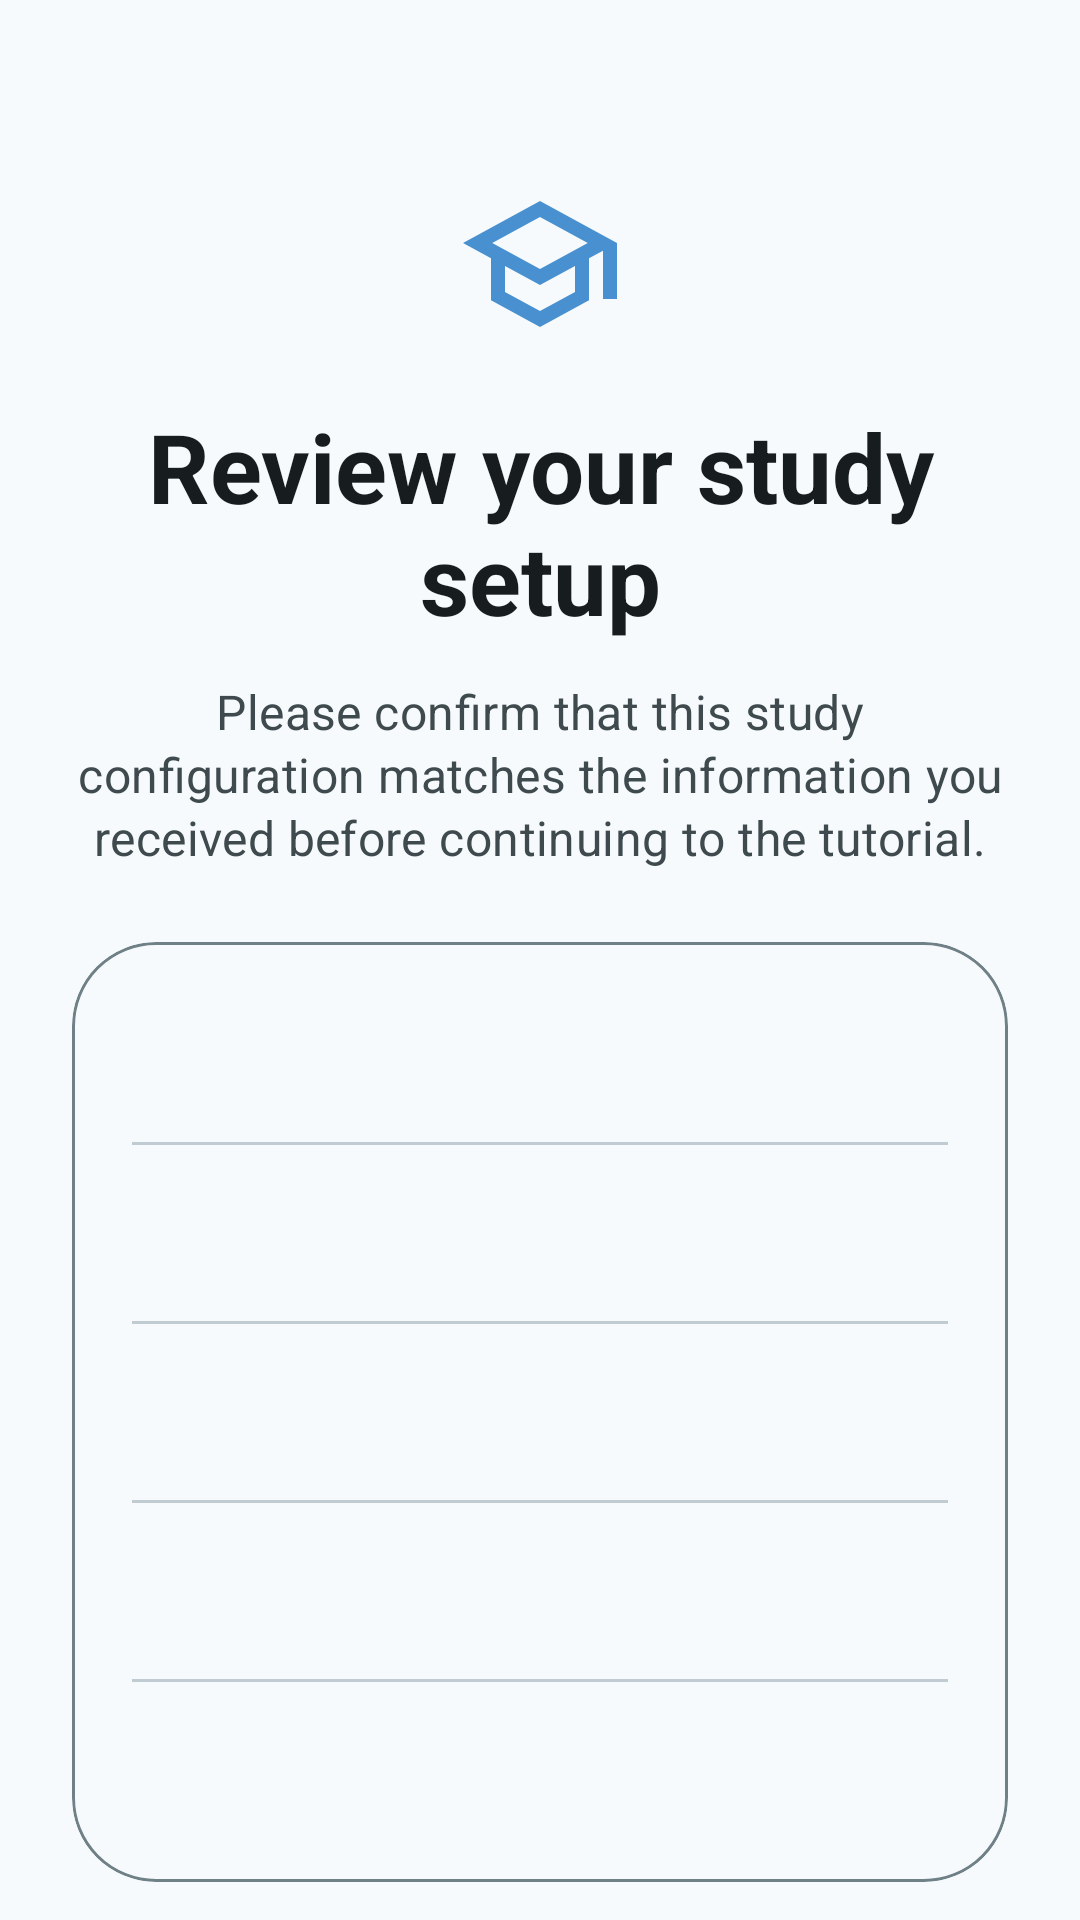

Screen size 1080px x 1920px. Icon name, then its center in pixels as (x=x, y=y):
school: (x=540, y=264)
